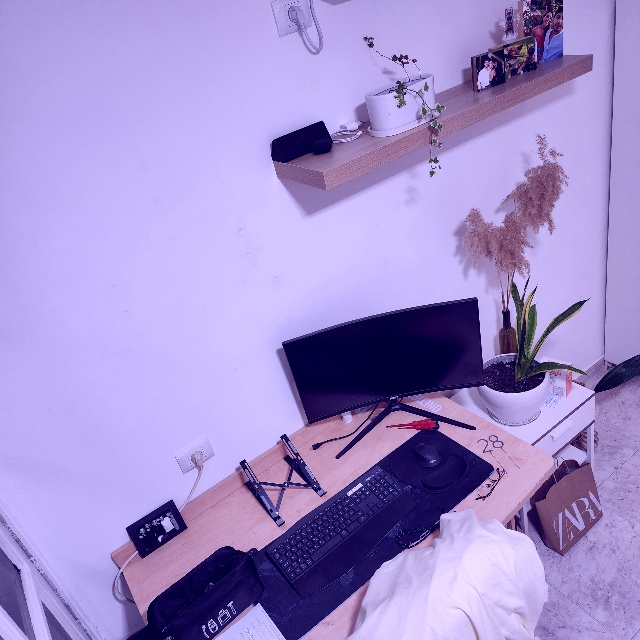glasses: (473, 466, 505, 504)
